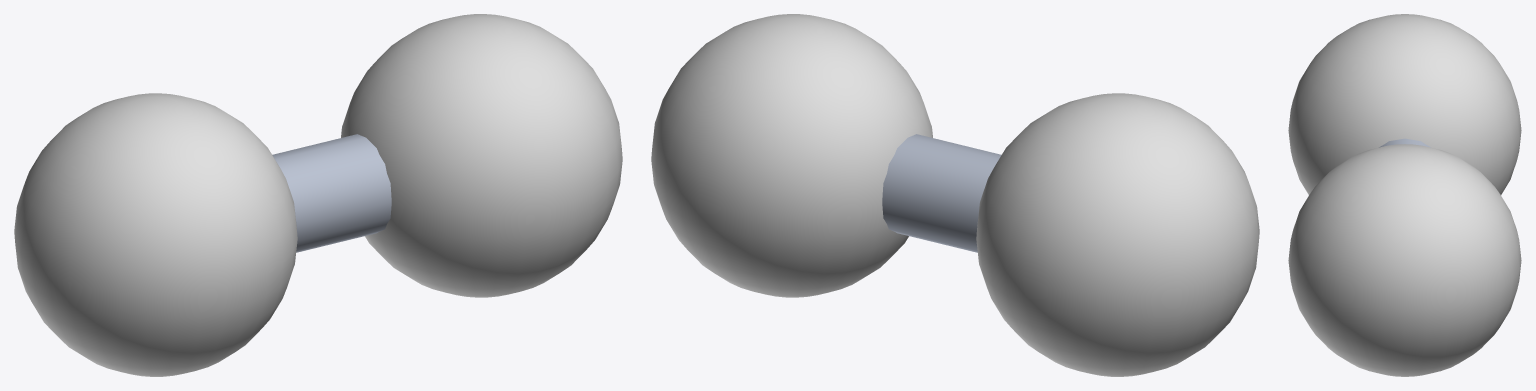
The picture shows the model from 3 angles, left to right: view 1: azimuth 30°, elevation 25°; view 2: azimuth 150°, elevation 25°; view 3: azimuth 270°, elevation 25°; orthographic projection. The views are drawn at different scales.
Visible parts, largest first — view 1: H (×2), bond; view 2: H (×2), bond; view 3: H (×2), bond.
Part boxes in pixels (<box>): H (×2): <box>14,14,622,376</box>; bond: <box>272,134,391,252</box>; H (×2): <box>651,14,1259,376</box>; bond: <box>882,134,1001,252</box>; H (×2): <box>1288,14,1521,376</box>; bond: <box>1379,138,1430,147</box>.
Size of the model in its own units: 0.22 by 0.0948 by 0.0948.
